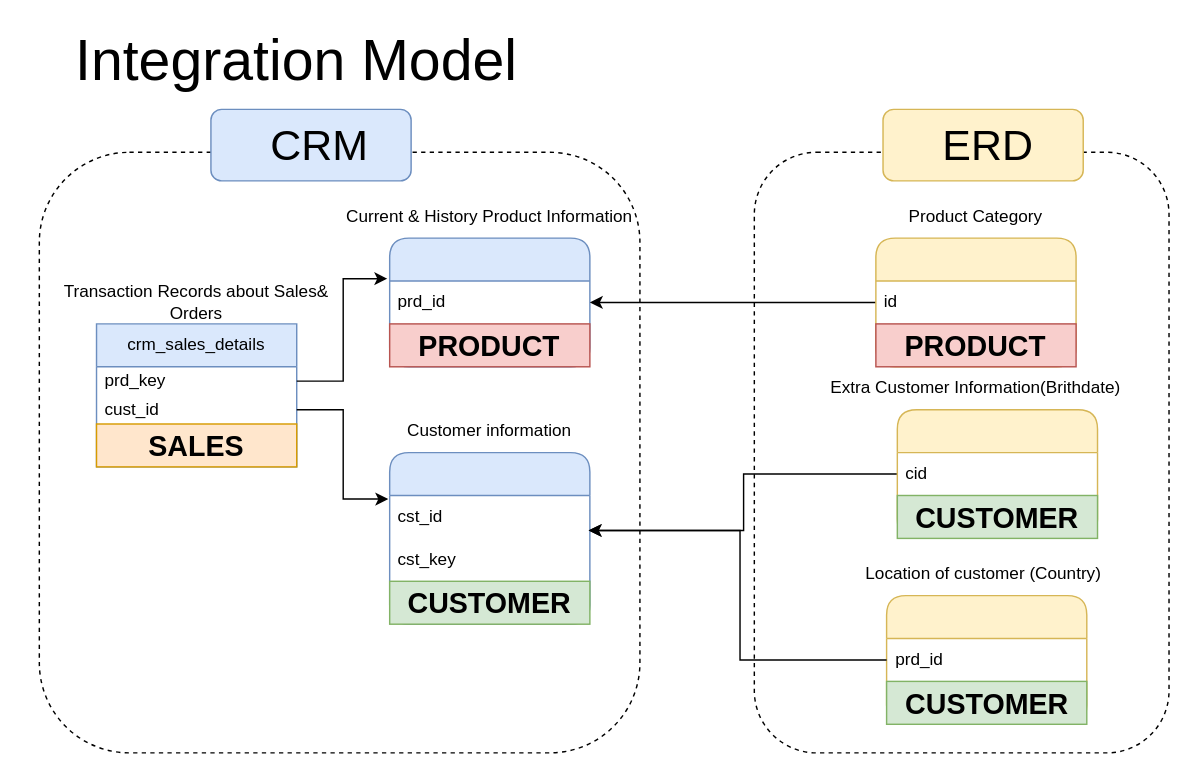
The diagram is 1194 pixels wide and 778 high, and some of its shapes have lost their labels. The shapes that lost their labels are listed below. From the top down, each one's box as (x1, y1, x2, y2) in pixels, then its label:
(388, 237, 590, 367): crm_prd_info
(874, 237, 1076, 367): erp_px_cat_g1v2
(896, 408, 1098, 538): erp_loc_a101
(388, 451, 590, 624): crm_cust_info
(885, 594, 1087, 724): erp_cust_az12
